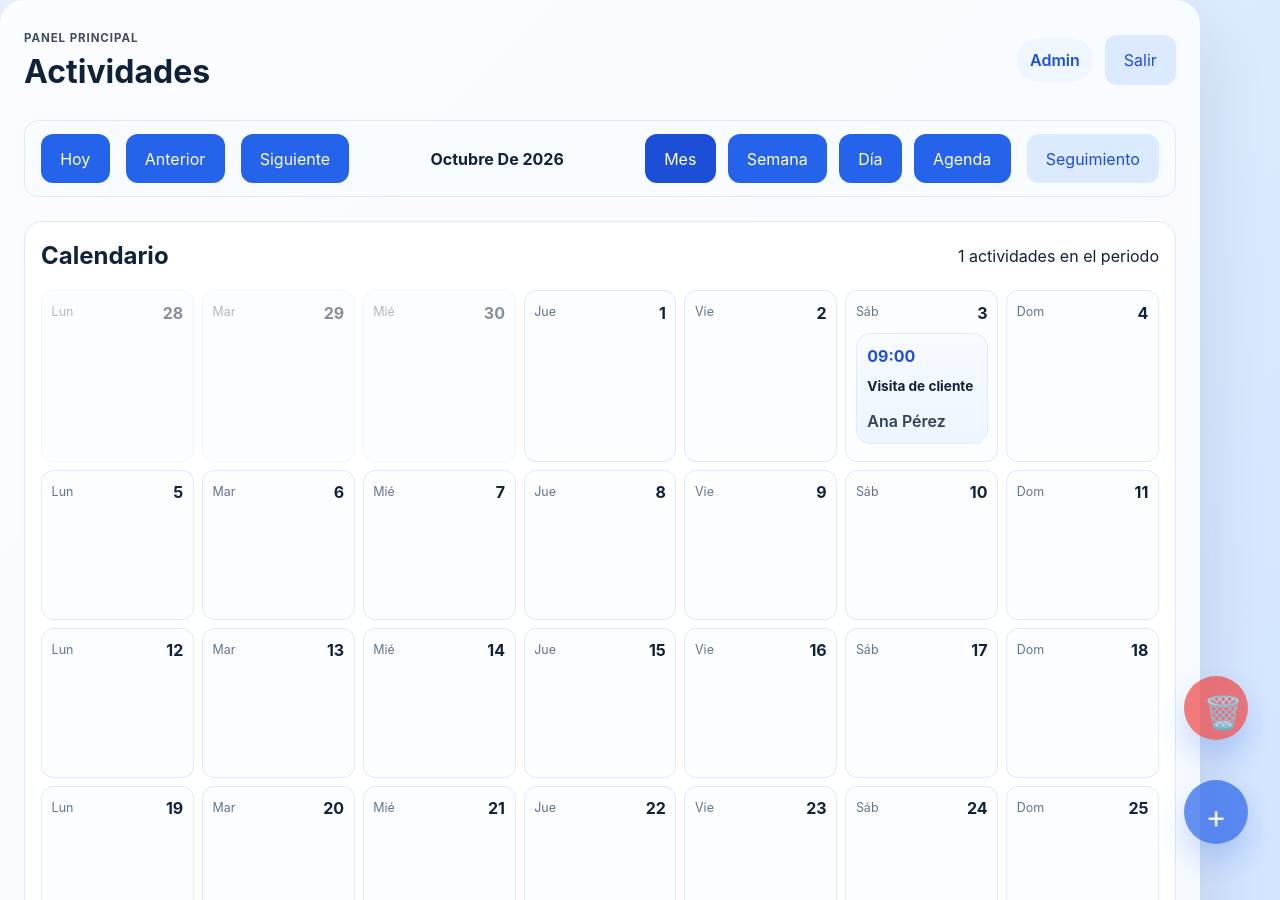
Scenario: ActivityCalendar › restricts creation and deletion controls for associates
Check: the button named "Crear actividad" is disabled, box [1184,780,1248,844]
Click the heading "Visita de cliente" at (922, 386), box [867,376,976,397]
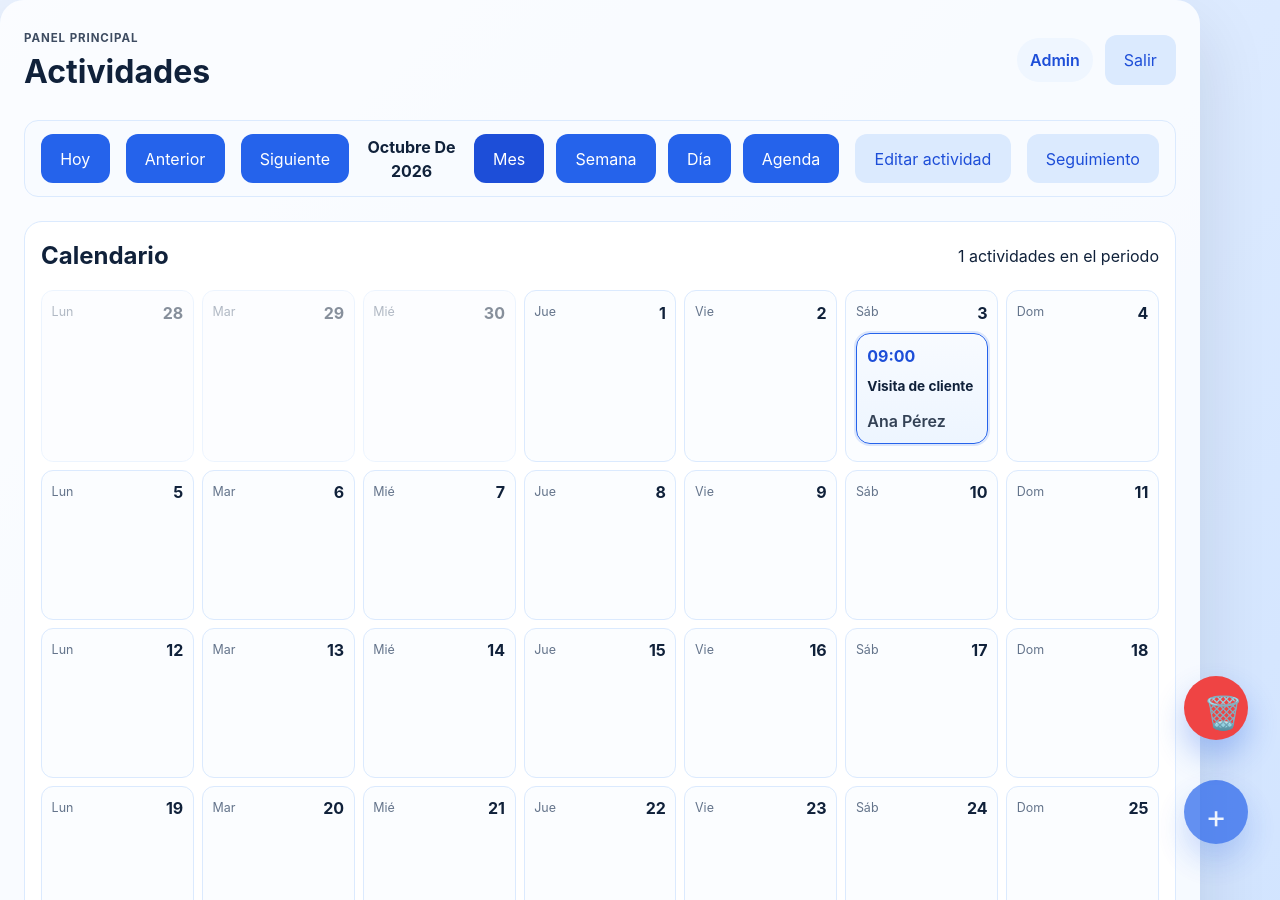
Check: the button "Editar actividad" is enabled, box [855,134,1011,183]
Check: the button named "Eliminar actividad seleccionada" is enabled, box [1184,676,1248,740]
